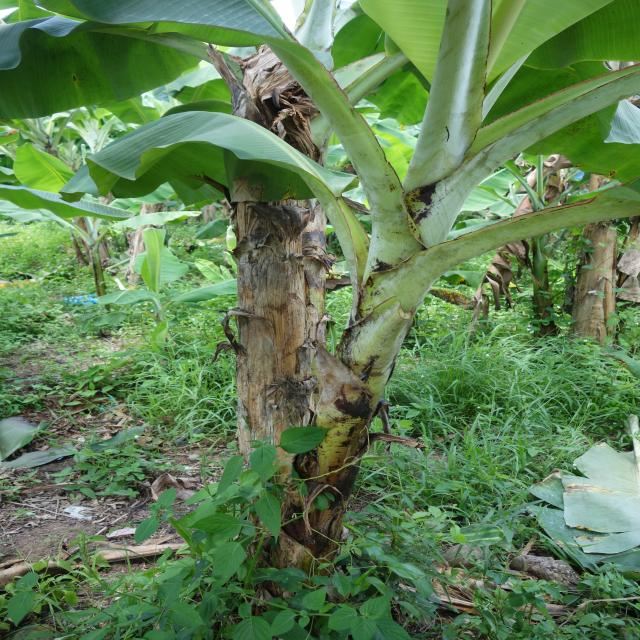Banana-plant: (236, 180, 504, 571), (202, 67, 297, 553)
